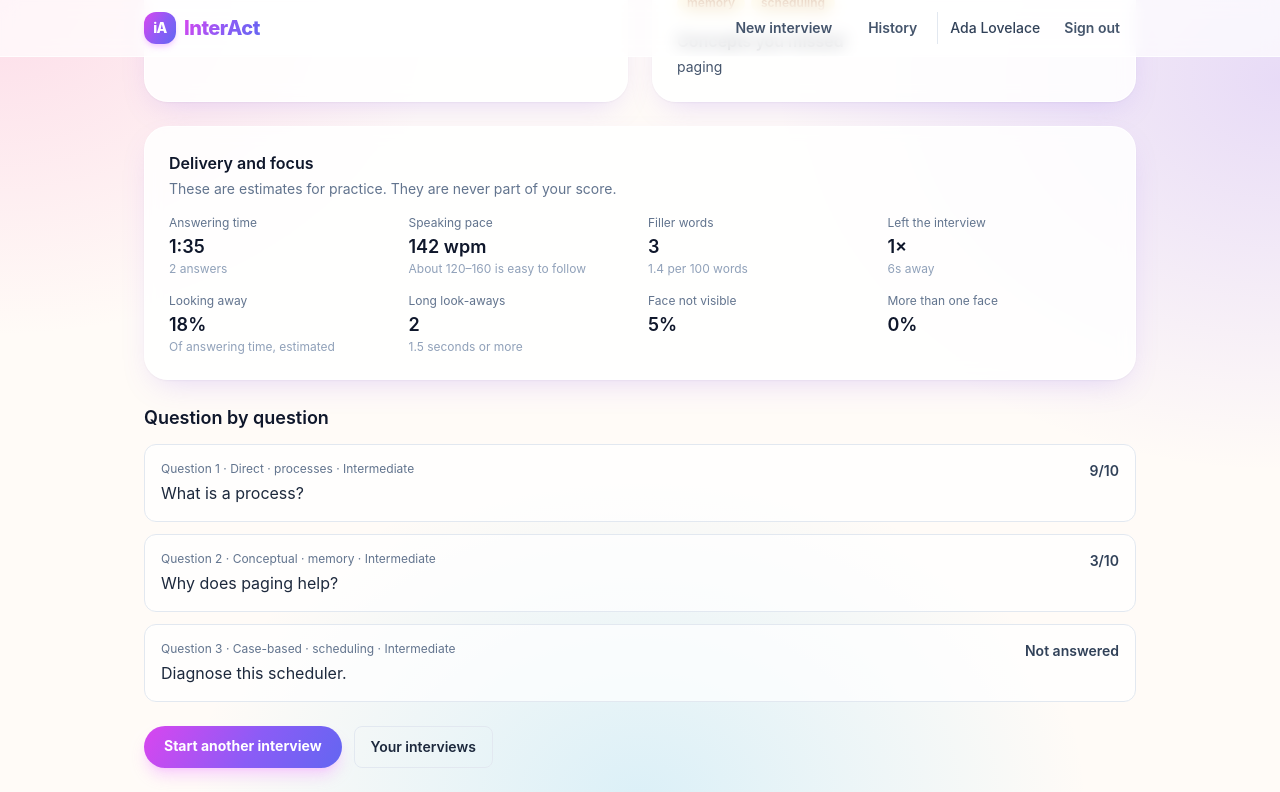
Test: report page › explains a low-confidence grade
(page scrolled)
Click the text "Why does paging help?" at {"x": 250, "y": 583}, box x1=161 y1=573 x2=338 y2=593
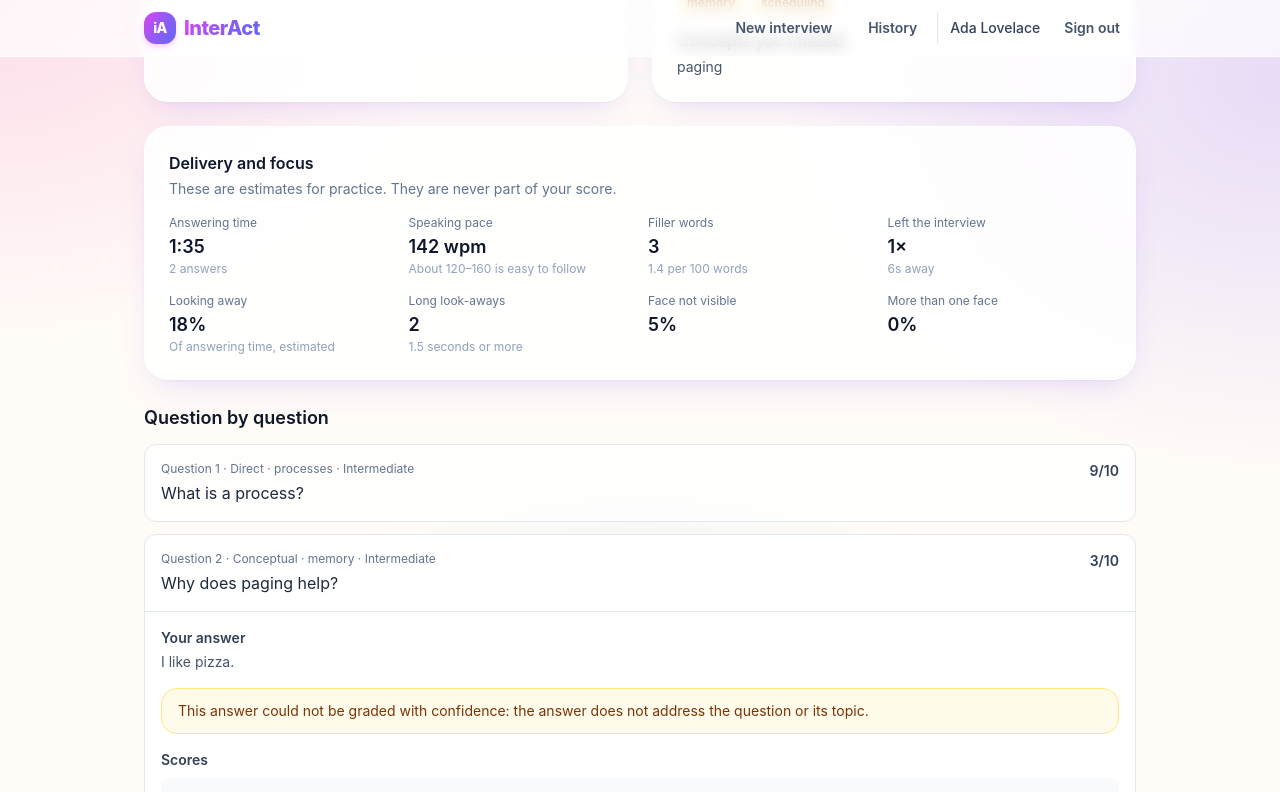
Expected: the text "could not be graded with confidence: the answer does not address the question" is shown, x1=178 y1=702 x2=869 y2=719
